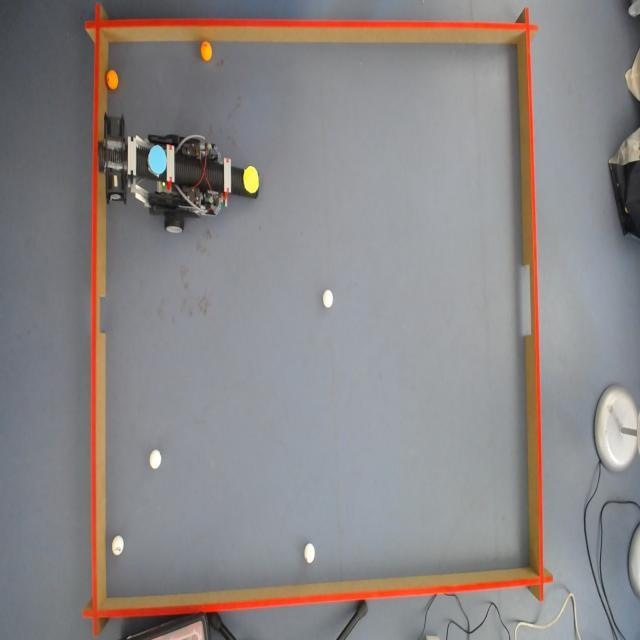orange: (106, 69, 122, 89), (200, 42, 212, 64)
robot: (92, 120, 260, 234)
robot-front: (240, 164, 260, 194)
robot-rear: (148, 145, 166, 176)
white: (304, 542, 317, 564), (322, 288, 334, 310), (150, 449, 162, 470), (112, 536, 125, 555)
